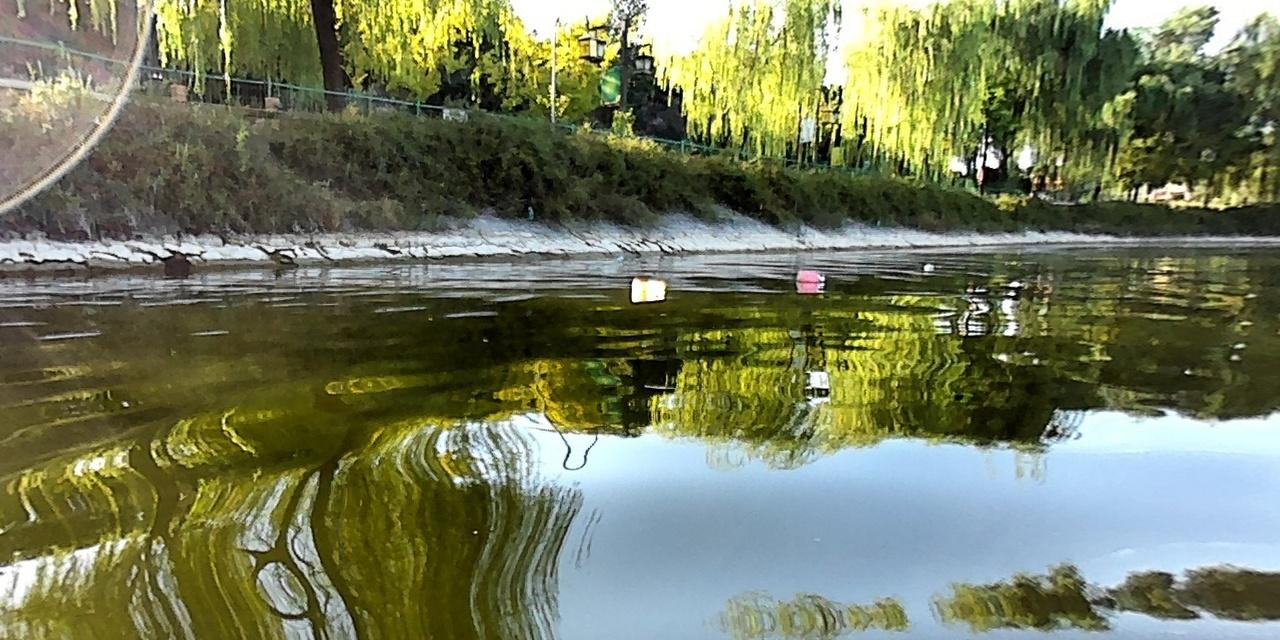bottle: (627, 274, 667, 291), (793, 267, 827, 284)
